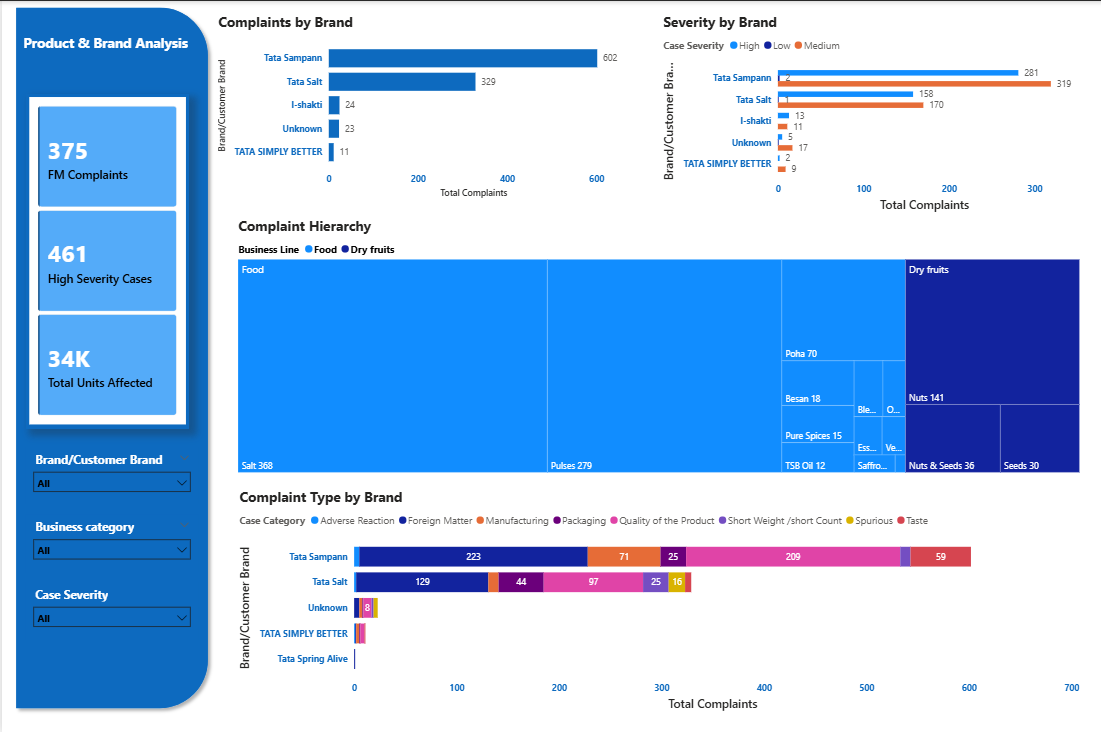

The dashboard page shown, as its layout file describes it:
{"tool":"powerbi","page":{"name":"Product & Brand Analysis","canvas":[1500,1000],"ordinal":1},"visuals":[{"type":"shape","title":"Product & Brand Analysis","box":[10.2,0,279.5,973.1],"z":0},{"type":"textbox","box":[23.9,39.2,265.9,71.6],"z":1000},{"type":"barChart","title":"Complaints by Brand","fields":{"Category":["PowerBI-data.Brand/Customer Brand"],"Y":["1 Measures.Total Complaints"]},"box":[289.7,15.3,567.5,259],"z":2000},{"type":"slicer","fields":{"Values":["PowerBI-data.Brand/Customer Brand"]},"box":[32.4,608.4,235.2,76.7],"z":3000},{"type":"slicer","fields":{"Values":["PowerBI-data.Business category"]},"box":[32.4,700.4,235.2,78.4],"z":4000},{"type":"slicer","fields":{"Values":["PowerBI-data.Case Severity"]},"box":[32.4,792.4,235.2,78.4],"z":5000},{"type":"cardVisual","fields":{"Data":["1 Measures.FM Complaints","1 Measures.High Severity Cases","1 Measures.Total Units Affected"]},"box":[32.4,126.1,223.2,456.7],"z":6000},{"type":"barChart","title":"Complaint Type by Brand","fields":{"Y":["1 Measures.Total Complaints"],"Series":["PowerBI-data.Case Category"],"Category":["PowerBI-data.Brand/Customer Brand"]},"box":[318.7,662.9,1155.4,310.2],"z":7000},{"type":"clusteredBarChart","title":"Severity by Brand","fields":{"Category":["PowerBI-data.Brand/Customer Brand"],"Y":["1 Measures.Total Complaints"],"Series":["PowerBI-data.Case Severity"]},"box":[896.4,15.3,577.7,277.8],"z":8000},{"type":"treemap","title":"Complaint Hierarchy","fields":{"Group":["PowerBI-data.Business Line"],"Details":["PowerBI-data.Business category"],"Values":["1 Measures.Total Complaints"]},"box":[317,293.1,1157.1,354.5],"z":9000}]}

Visuals, with their boxes in screenshot pixels (x1, y1, x2, y2), scaled from the page's 1500x1000 canvas onto the 1101x732 screenshot:
"Product & Brand Analysis" shape: box(7, 0, 213, 712)
textbox: box(18, 29, 213, 81)
"Complaints by Brand" barChart: box(213, 11, 629, 201)
slicer - PowerBI-data.Brand/Customer Brand: box(24, 445, 196, 501)
slicer - PowerBI-data.Business category: box(24, 513, 196, 570)
slicer - PowerBI-data.Case Severity: box(24, 580, 196, 637)
cardVisual - 1 Measures.FM Complaints x 1 Measures.High Severity Cases: box(24, 92, 188, 427)
"Complaint Type by Brand" barChart: box(234, 485, 1082, 712)
"Severity by Brand" clusteredBarChart: box(658, 11, 1082, 215)
"Complaint Hierarchy" treemap: box(233, 215, 1082, 474)
